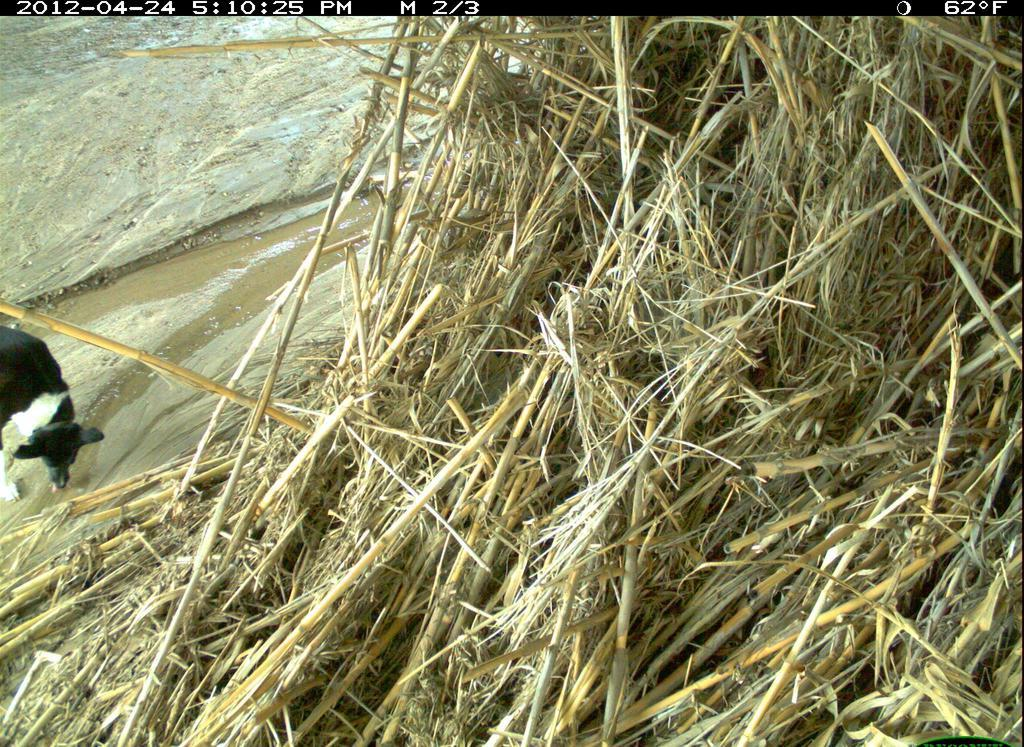dog: (1, 319, 112, 506)
